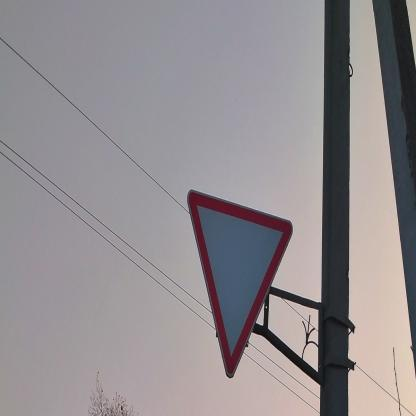road_sign: (187, 190, 292, 377)
